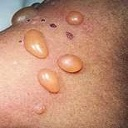Pemphigoid: (57, 47, 84, 74), (24, 31, 49, 60), (39, 68, 60, 95), (12, 9, 35, 24), (67, 11, 84, 27)
